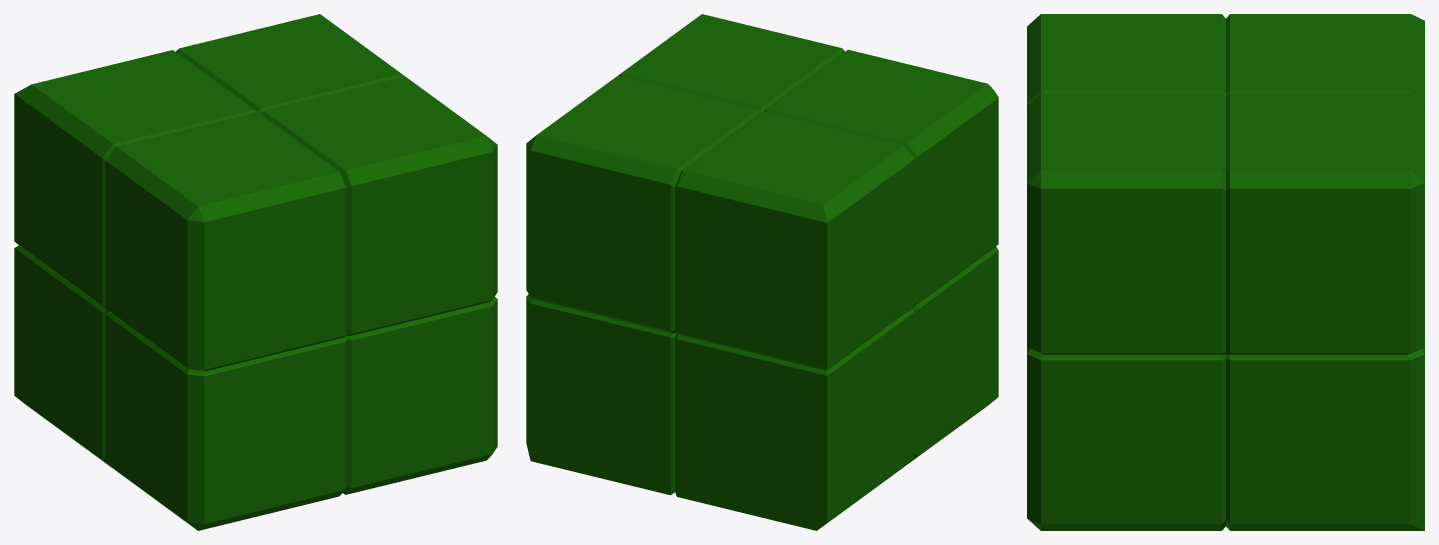
The model's file is 8_Tetras.fbx.
3 views of the same model, side by side, from view 1: azimuth 30°, elevation 25°; view 2: azimuth 150°, elevation 25°; view 3: azimuth 270°, elevation 25° (orthographic). The views are drawn at different scales.
Visible parts, largest first — view 1: tetras; view 2: tetras; view 3: tetras.
Boxes of the visible parts, x1,y1,x2,y2 form: tetras: [14, 14, 497, 530]; tetras: [526, 14, 998, 530]; tetras: [1027, 14, 1424, 530].
Bounding box in the file's own units: 100 × 100 × 100.
